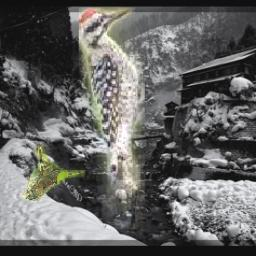Sparrow: (23, 145, 85, 202)
Woodpecker: (78, 7, 144, 230)
